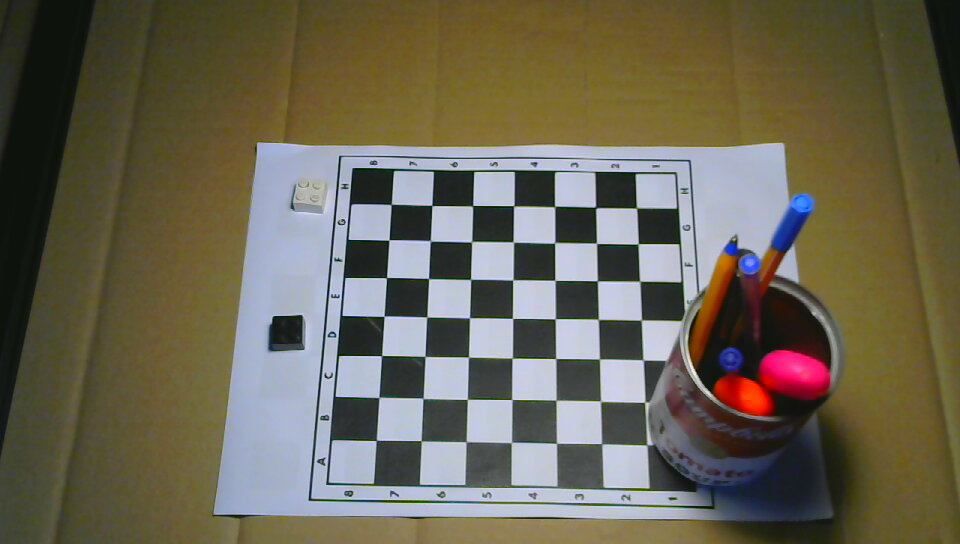bp: (270, 314, 307, 351)
wp: (291, 179, 327, 214)
